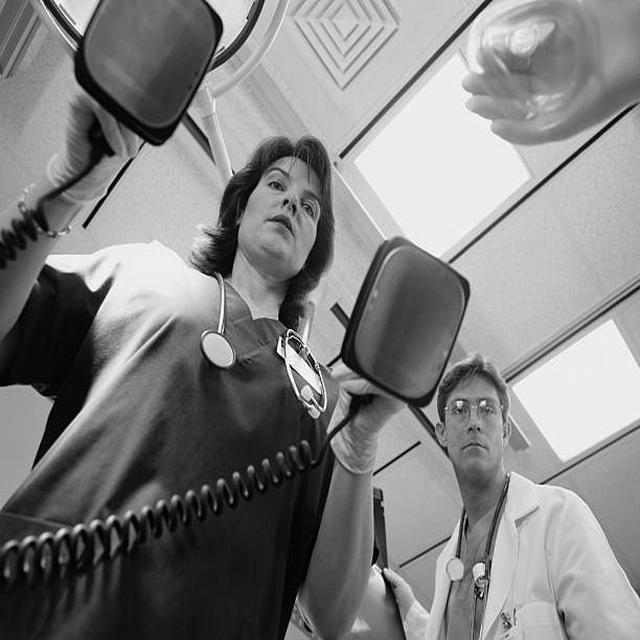Fear: (448, 379, 499, 477)
